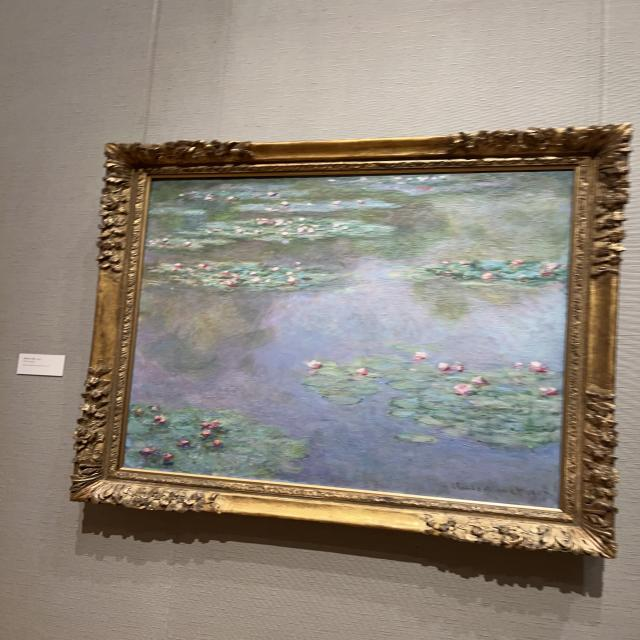lilies: (123, 171, 571, 506)
